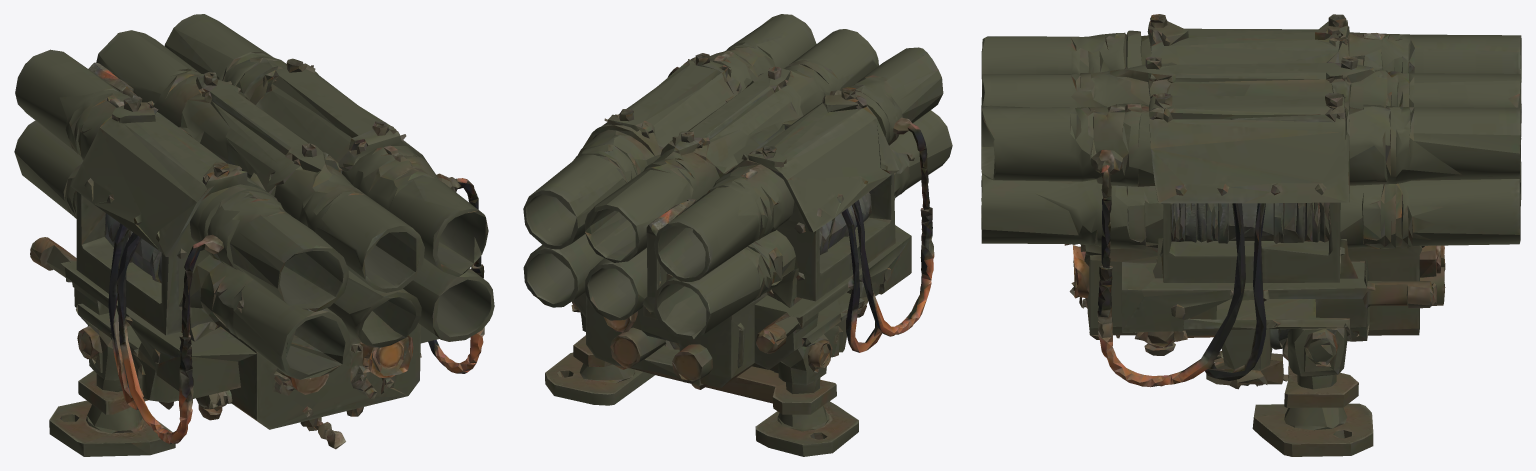
Rendered from tower_rocket.glb.
The picture shows the model from 3 angles, left to right: view 1: azimuth 30°, elevation 25°; view 2: azimuth 150°, elevation 25°; view 3: azimuth 270°, elevation 25°; orthographic projection. The views are drawn at different scales.
Parts seen in each view (by area): view 1: tower_rocket; view 2: tower_rocket; view 3: tower_rocket.
Boxes of the visible parts, x1,y1,x2,y2 form: tower_rocket: (14, 14, 494, 456); tower_rocket: (523, 14, 952, 456); tower_rocket: (981, 14, 1521, 456).
Bounding box in the file's own units: 1.31 × 1.24 × 1.9.
Materials: 1 (1 with a texture image).
